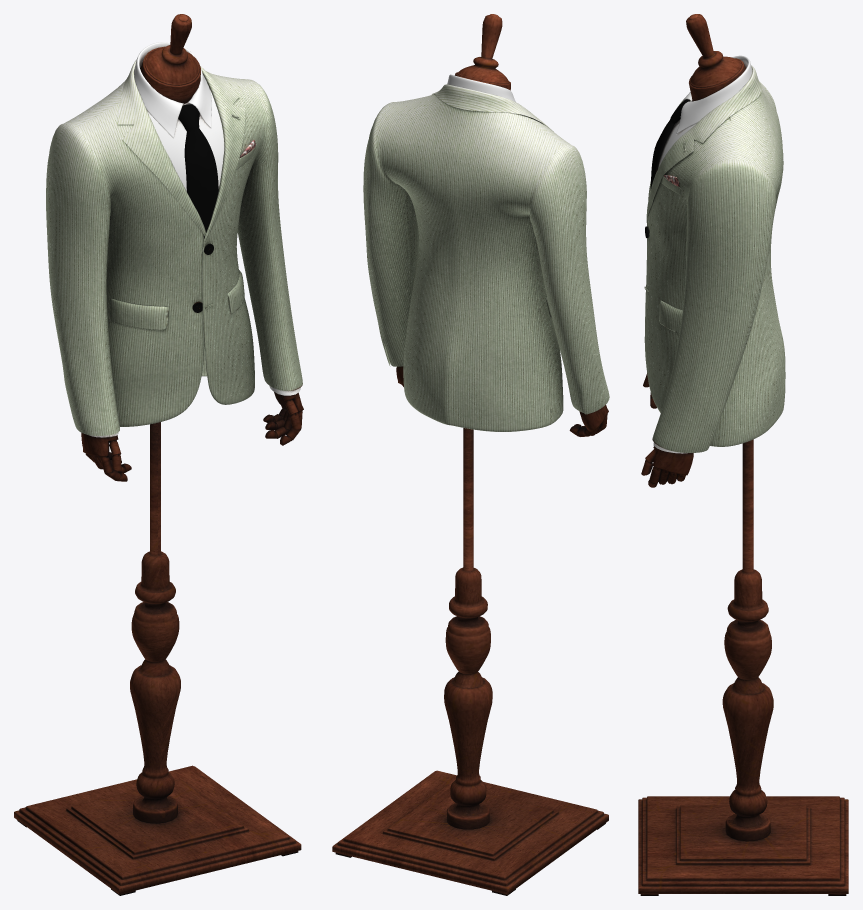
File: Coat-2.glb
3 renders of one model, left to right at view 1: azimuth 30°, elevation 25°; view 2: azimuth 150°, elevation 25°; view 3: azimuth 270°, elevation 25°, orthographic. The views are drawn at different scales.
Parts seen in each view (by area): view 1: _gltfNode_18.001, _gltfNode_0.001, _gltfNode_27.001, _gltfNode_36.001, _gltfNode_60.001, _gltfNode_21.001, _gltfNode_42.001; view 2: _gltfNode_18.001, _gltfNode_0.001, _gltfNode_27.001, _gltfNode_60.001; view 3: _gltfNode_18.001, _gltfNode_0.001, _gltfNode_27.001, _gltfNode_60.001, _gltfNode_36.001, _gltfNode_39.001, _gltfNode_21.001.
Boxes of the visible parts, x1,y1,x2,y2 form: _gltfNode_18.001: (46,74,302,435); _gltfNode_0.001: (14,14,303,895); _gltfNode_27.001: (117,60,245,248); _gltfNode_36.001: (178,104,218,238); _gltfNode_60.001: (134,42,211,137); _gltfNode_21.001: (88,87,300,437); _gltfNode_42.001: (109,298,168,330); _gltfNode_18.001: (363,94,609,431); _gltfNode_0.001: (332,14,608,895); _gltfNode_27.001: (431,84,553,131); _gltfNode_60.001: (447,74,515,101); _gltfNode_18.001: (644,82,785,452); _gltfNode_0.001: (638,14,848,895); _gltfNode_27.001: (646,65,762,223); _gltfNode_60.001: (676,55,752,134); _gltfNode_36.001: (650,99,689,189); _gltfNode_39.001: (659,300,682,333); _gltfNode_21.001: (653,119,696,453).
Size of the model in its own units: 0.2032 by 0.7347 by 0.1673.
Materials: 1 (1 with a texture image).
